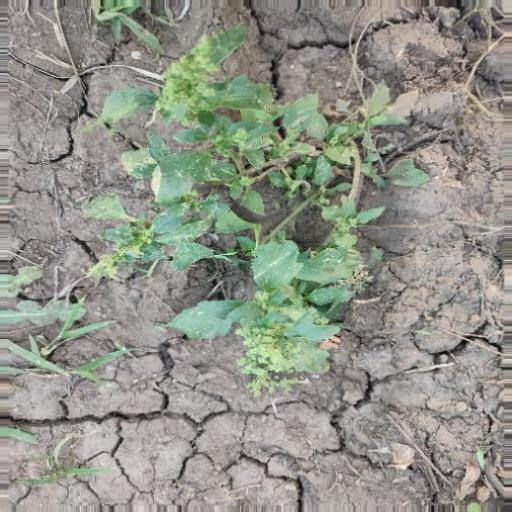weed: (90, 56, 400, 379)
